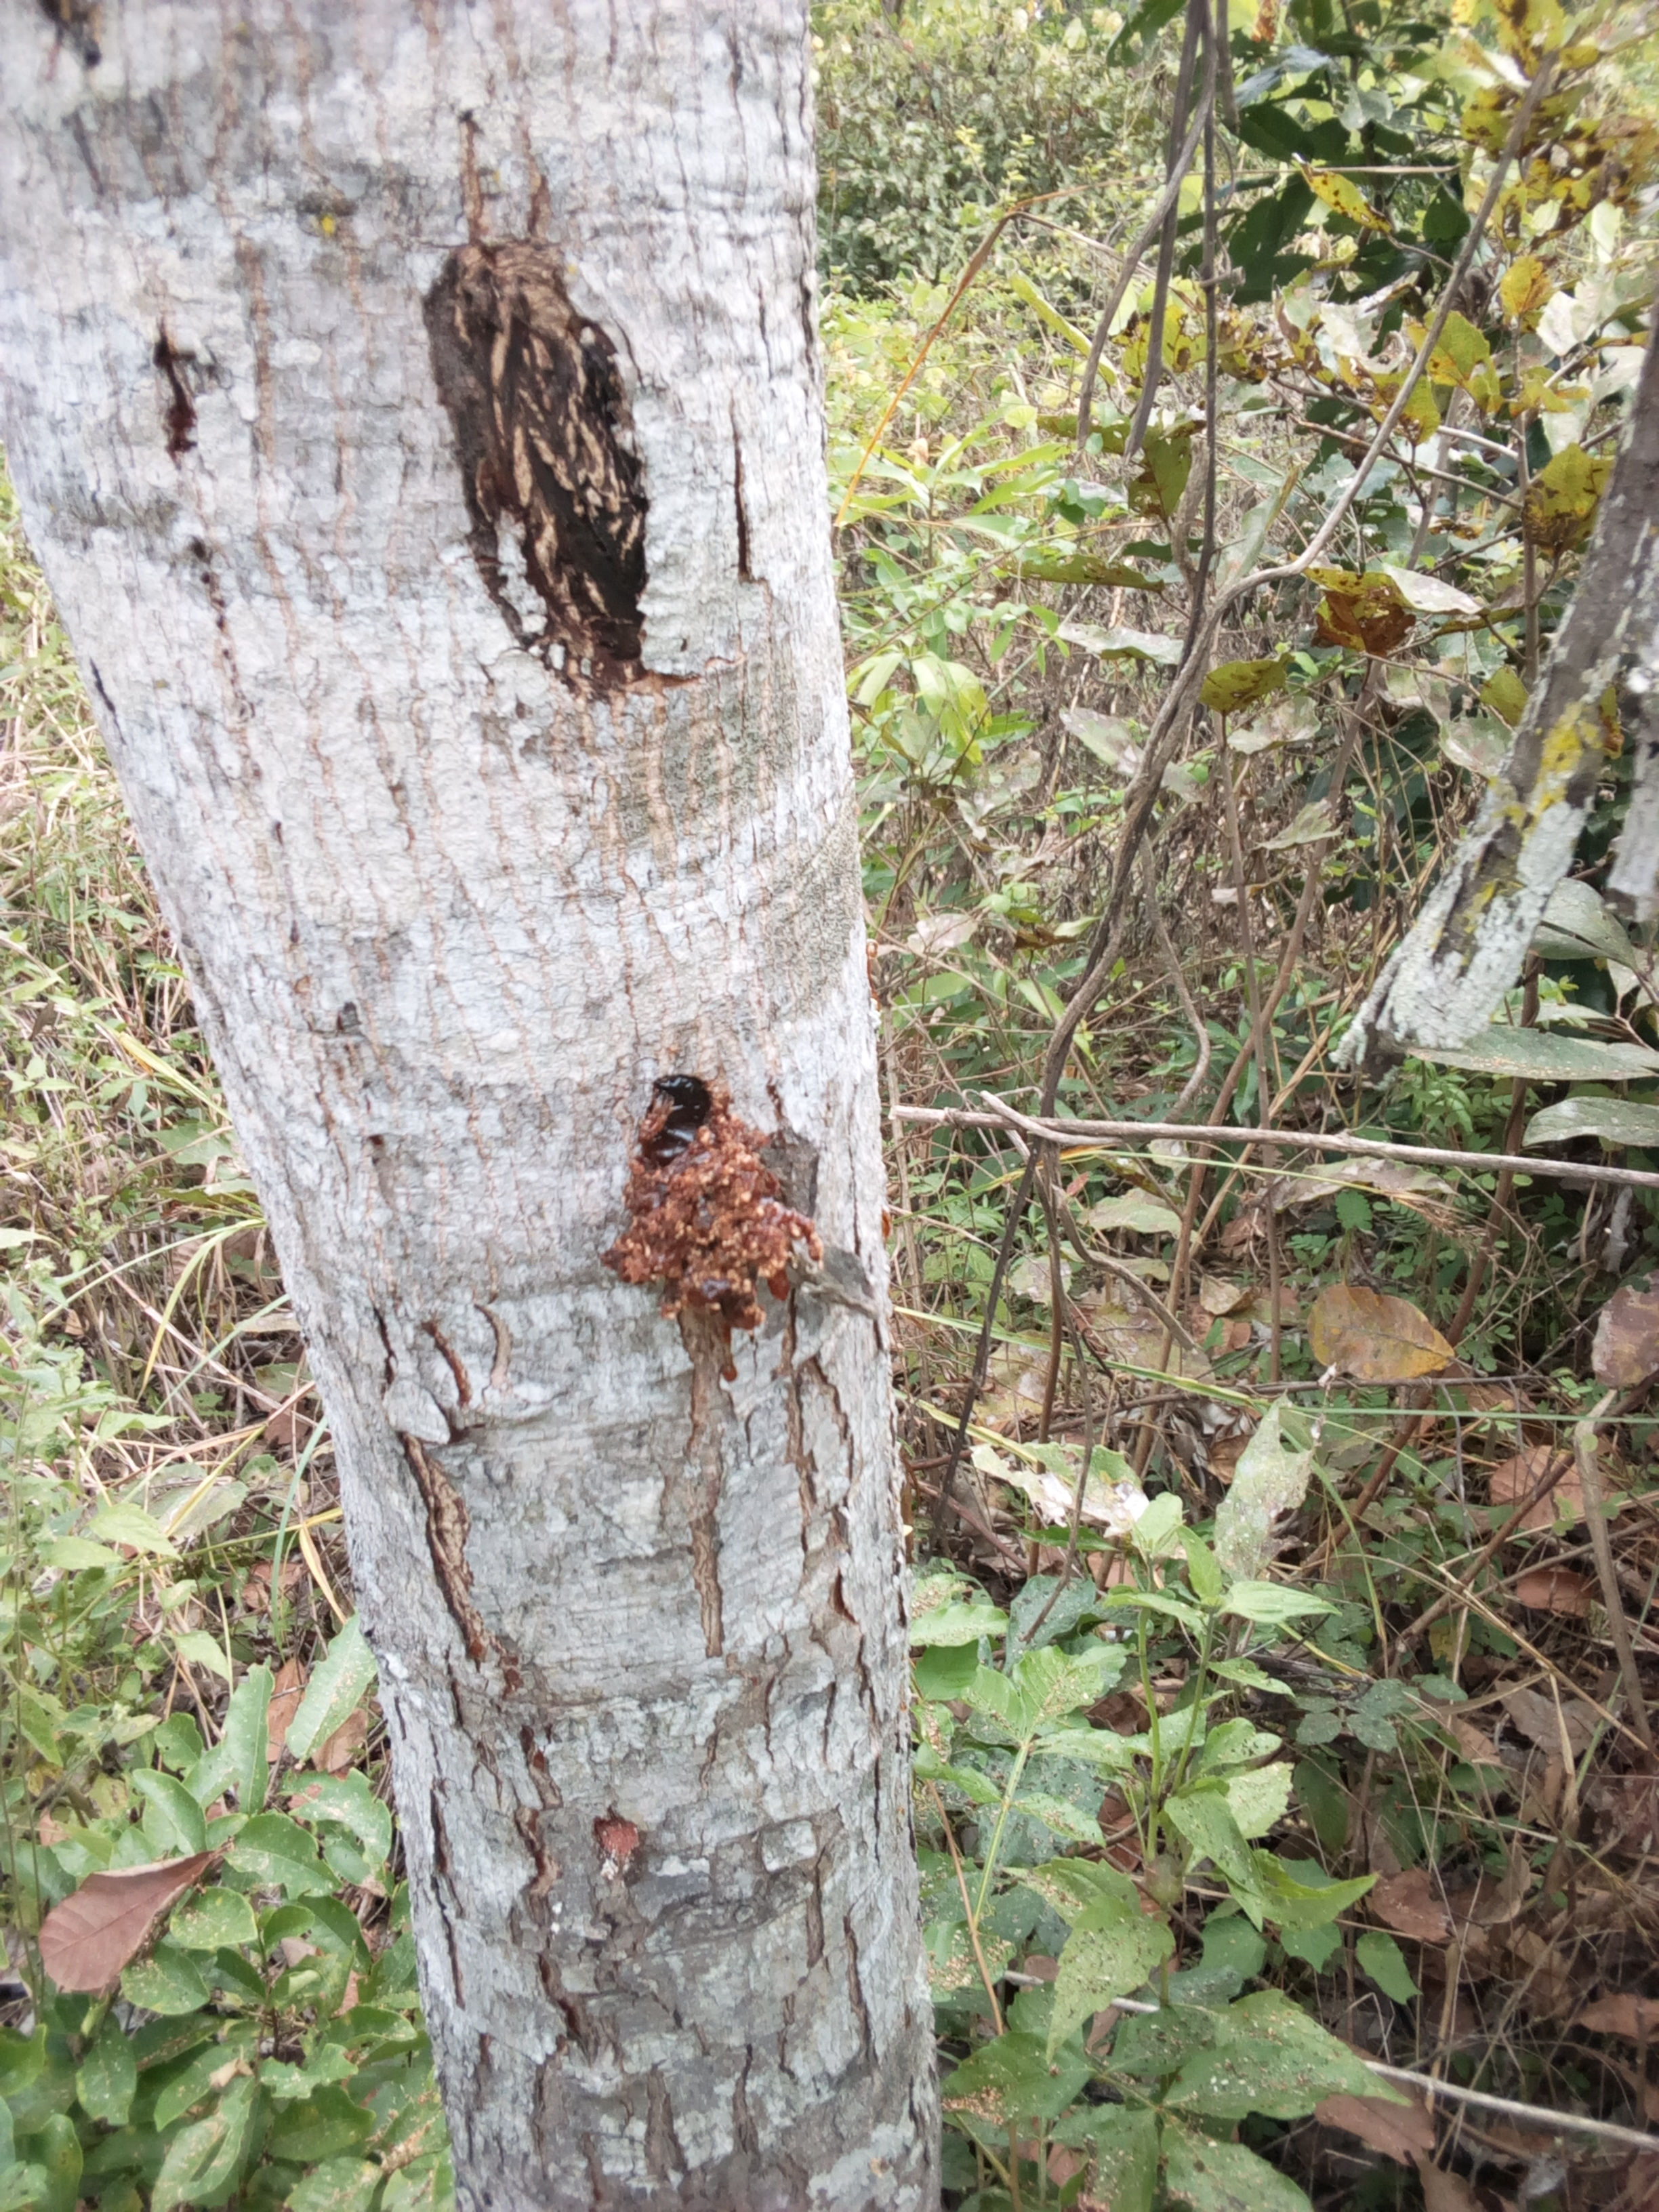Apate terebrans: (568, 1052, 918, 1360)
